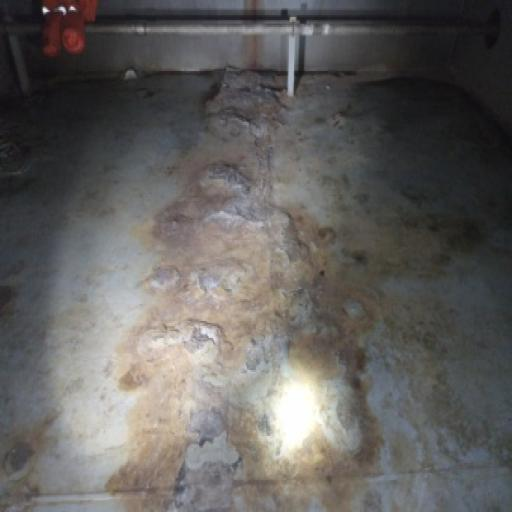Detect-rust-on-metal-surfaces: (101, 65, 493, 506)
